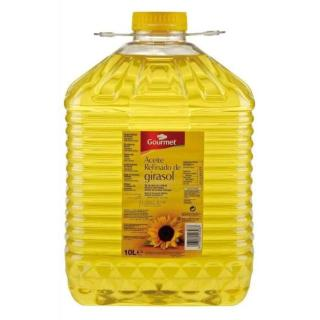Plastic-bottle: (55, 6, 263, 312)
